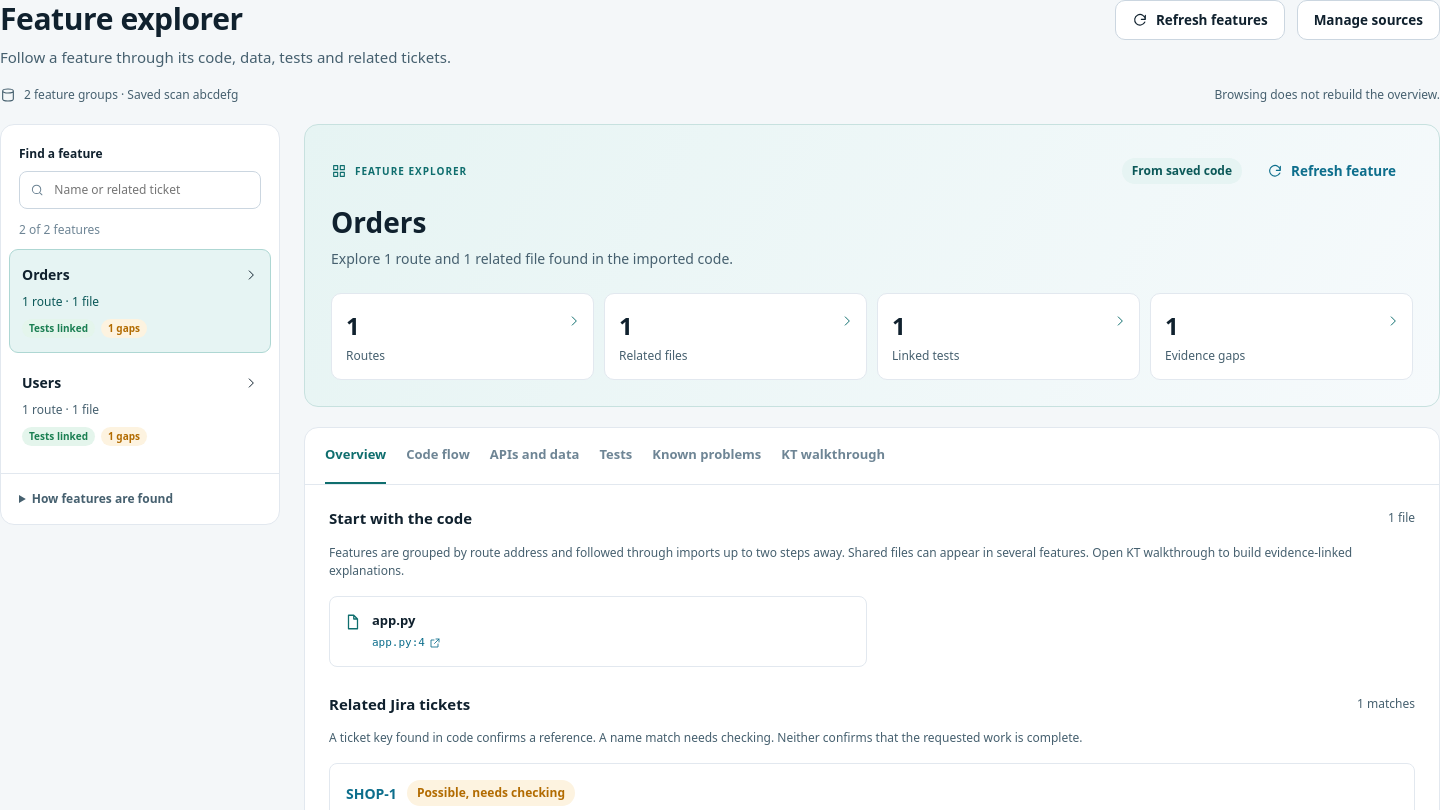
Scenario: shows source failures and discards protected details after access is revoked
The image size is (1440, 810).
Click the button "Refresh feature" at [1332, 171], box [1250, 151, 1413, 191]
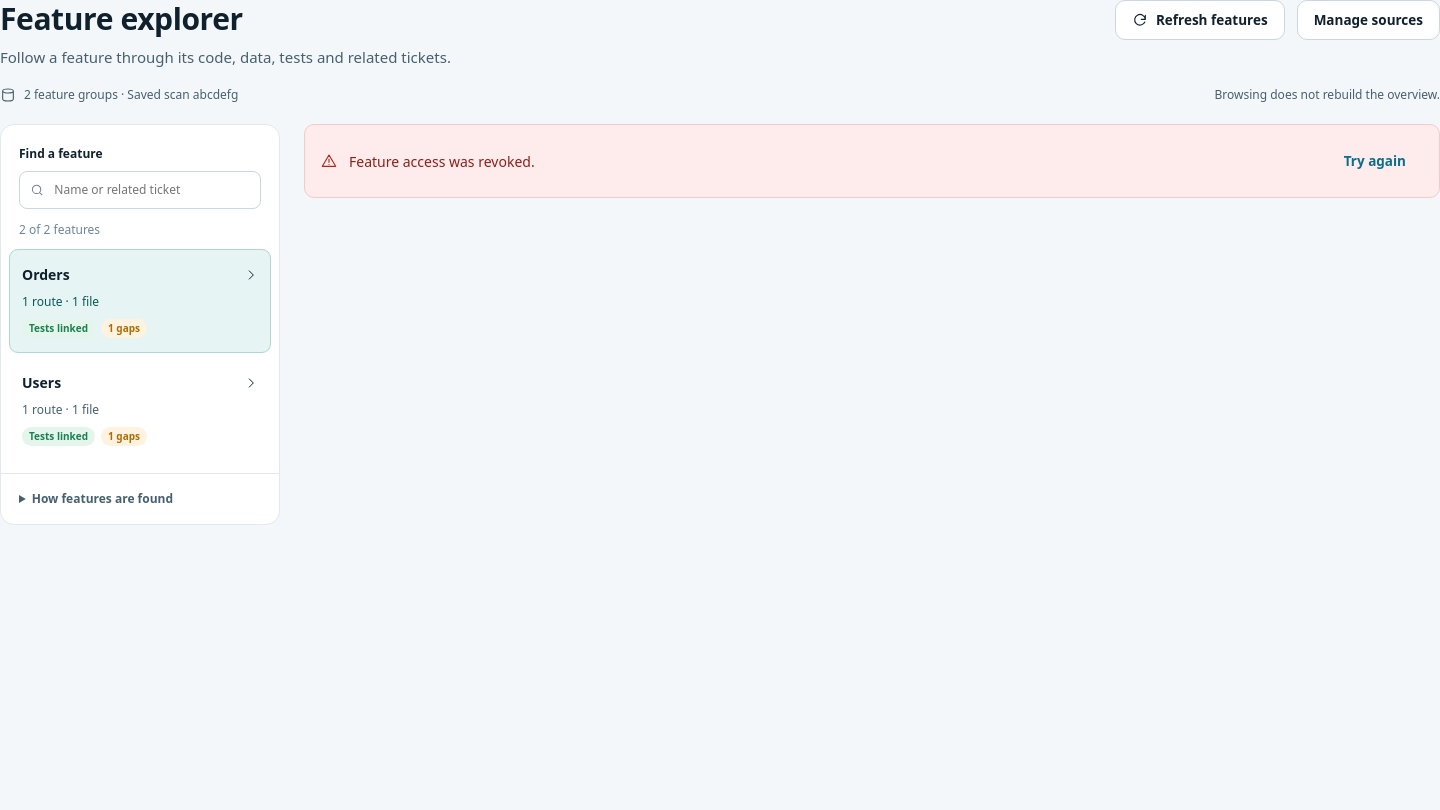
Expected: the text "Feature access was revoked." is shown, [349, 152, 535, 171]
Expected: the element with class "feature-hero" is gone
Click the button "Refresh features" at [1200, 20], box [1115, 0, 1285, 40]
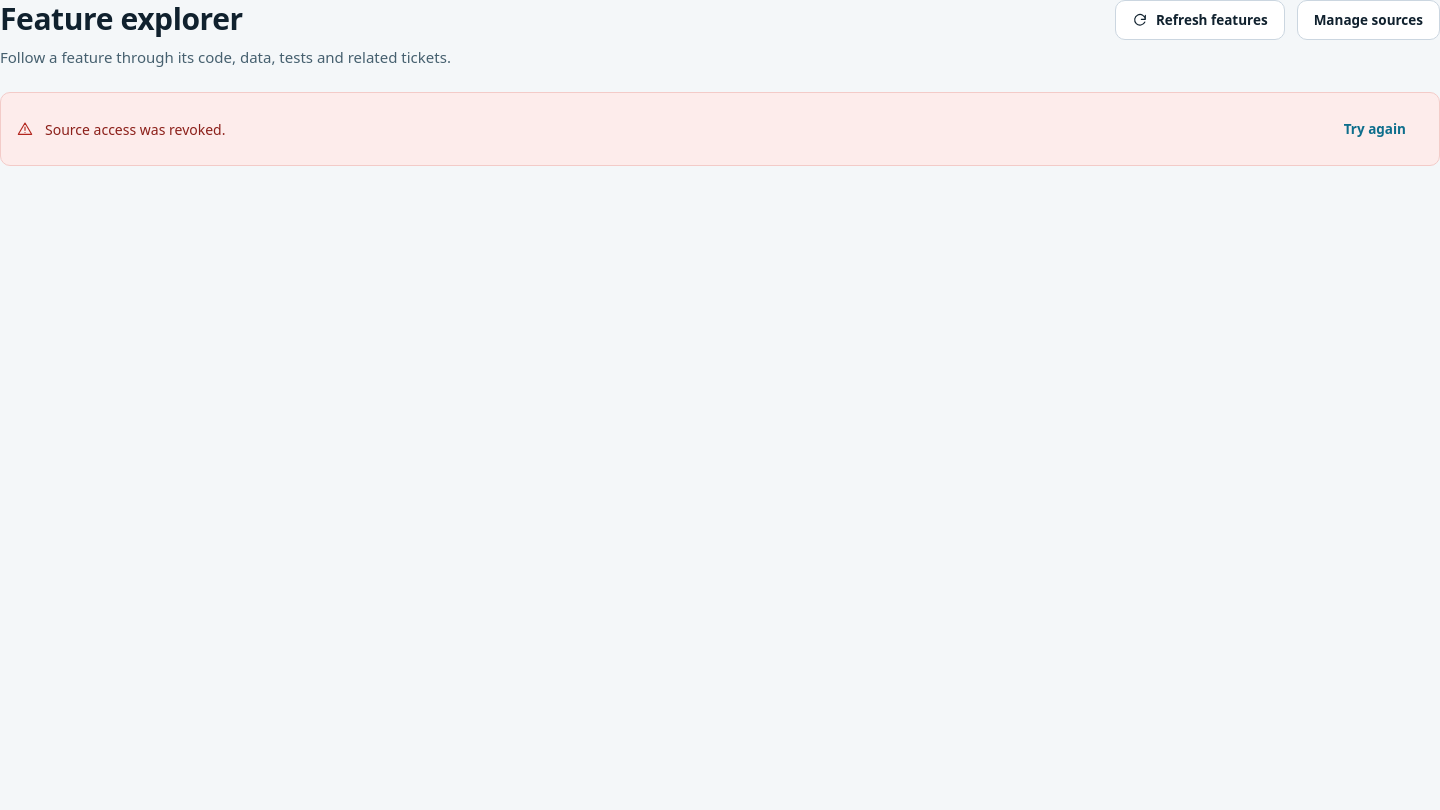
Expected: the text "Source access was revoked." is shown, [45, 120, 226, 139]
Expected: the element with class "feature-list" is gone
